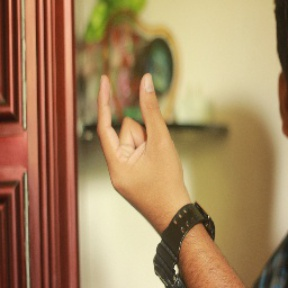U: (82, 66, 191, 202)
